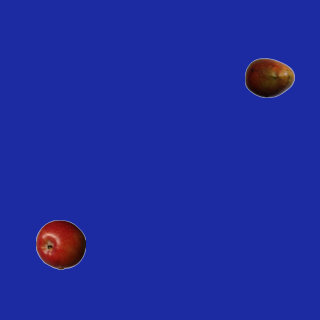Apple Braeburn: (35, 219, 85, 269)
Mango Red: (244, 52, 294, 102)
